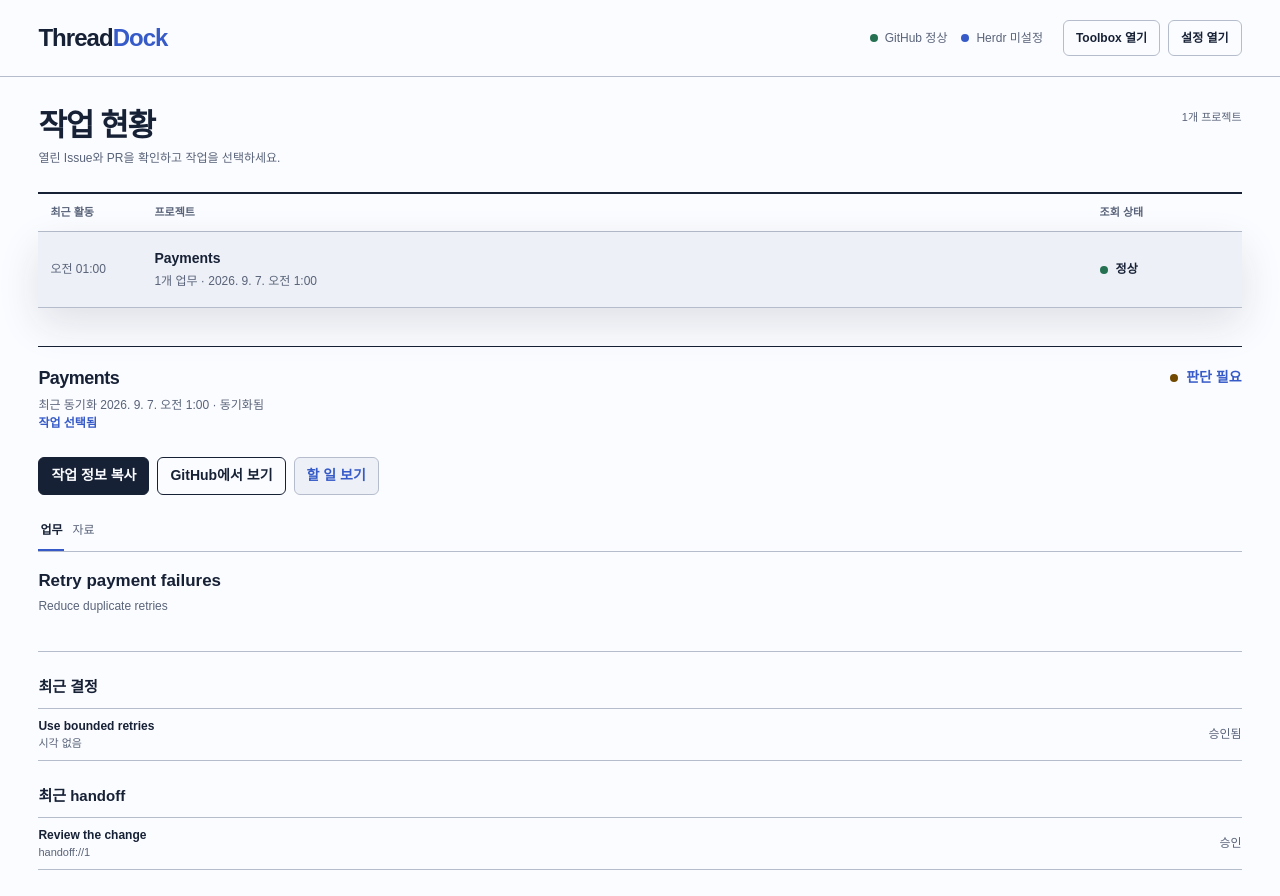
it: monitor list and detail › shows selected work detail, evidence, links and action rail
Expected: the heading "Retry payment failures" is shown, [38,571,221,590]
Expected: the text "Use bounded retries" is shown, [38,719,154,733]
Click the button "작업 정보 복사".
click(94, 476)  # box [38,457,150,495]
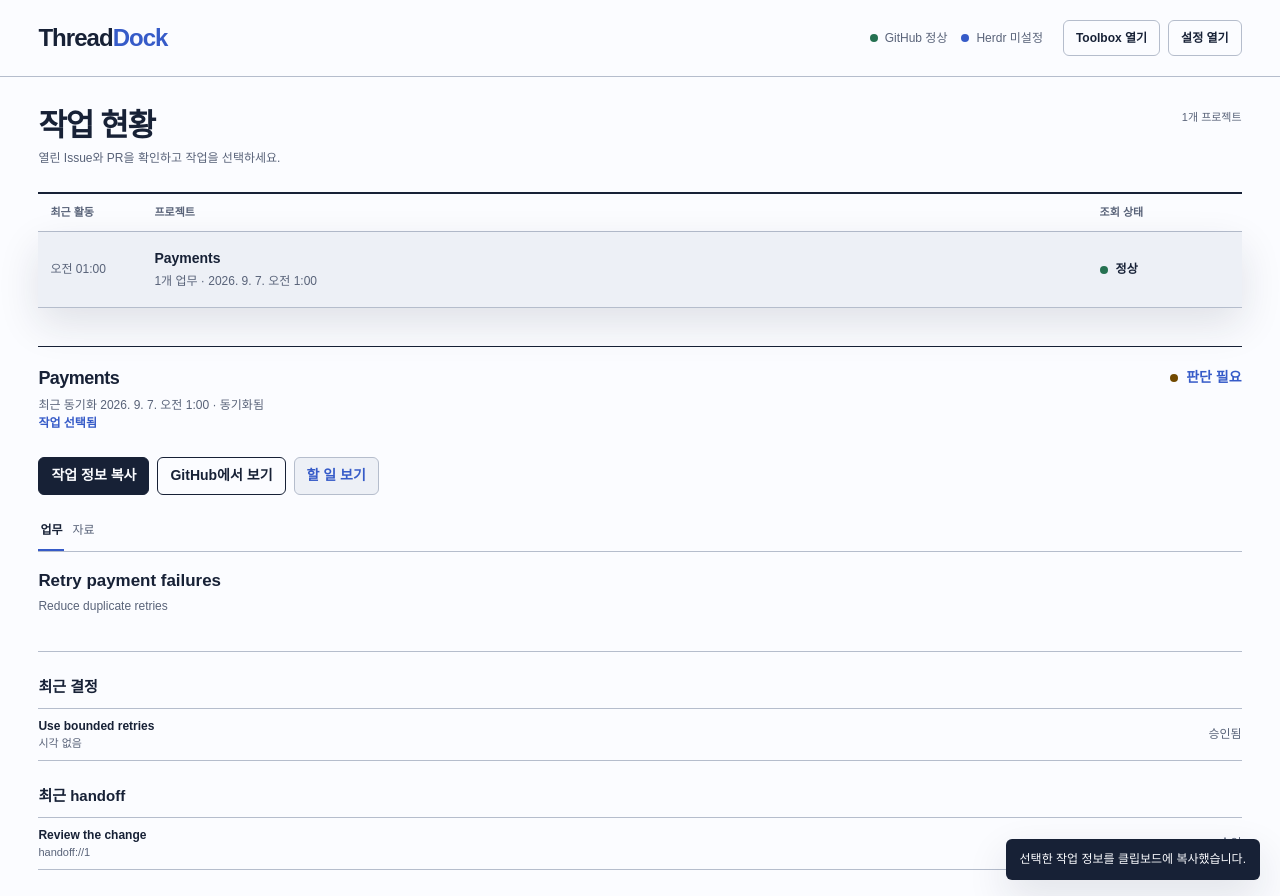
Result: the message reads "선택한 작업 정보를 클립보드에 복사했습니다." at [1020,852,1246,866]
